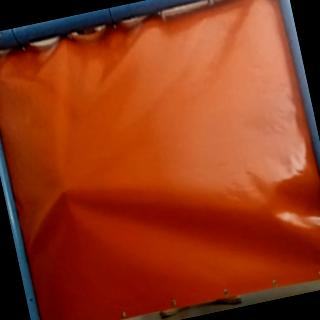Hit-hRxx: (54, 182, 74, 200)
